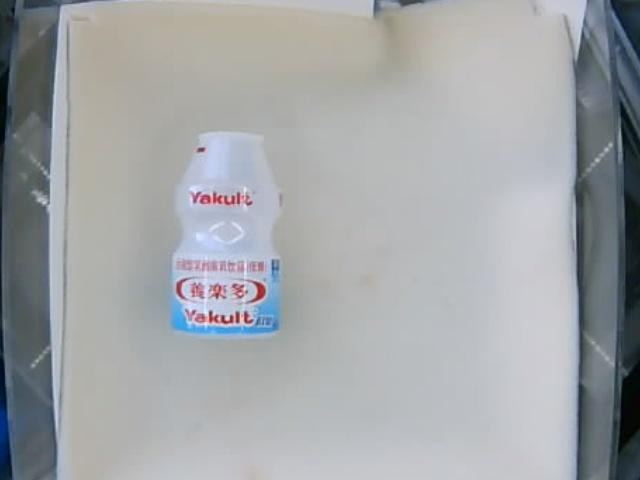Bottle: (173, 130, 279, 337)
